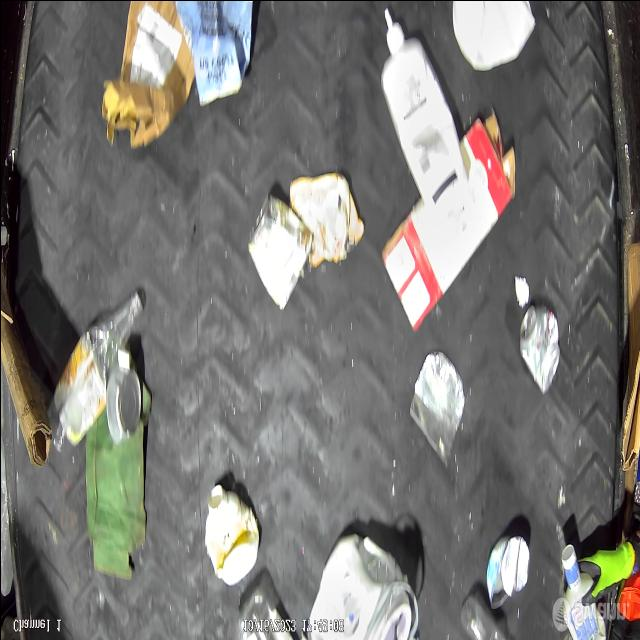can: (248, 187, 310, 313), (520, 302, 560, 396), (484, 540, 530, 608), (106, 352, 138, 446)
plastic_bottle: (50, 295, 145, 461)
